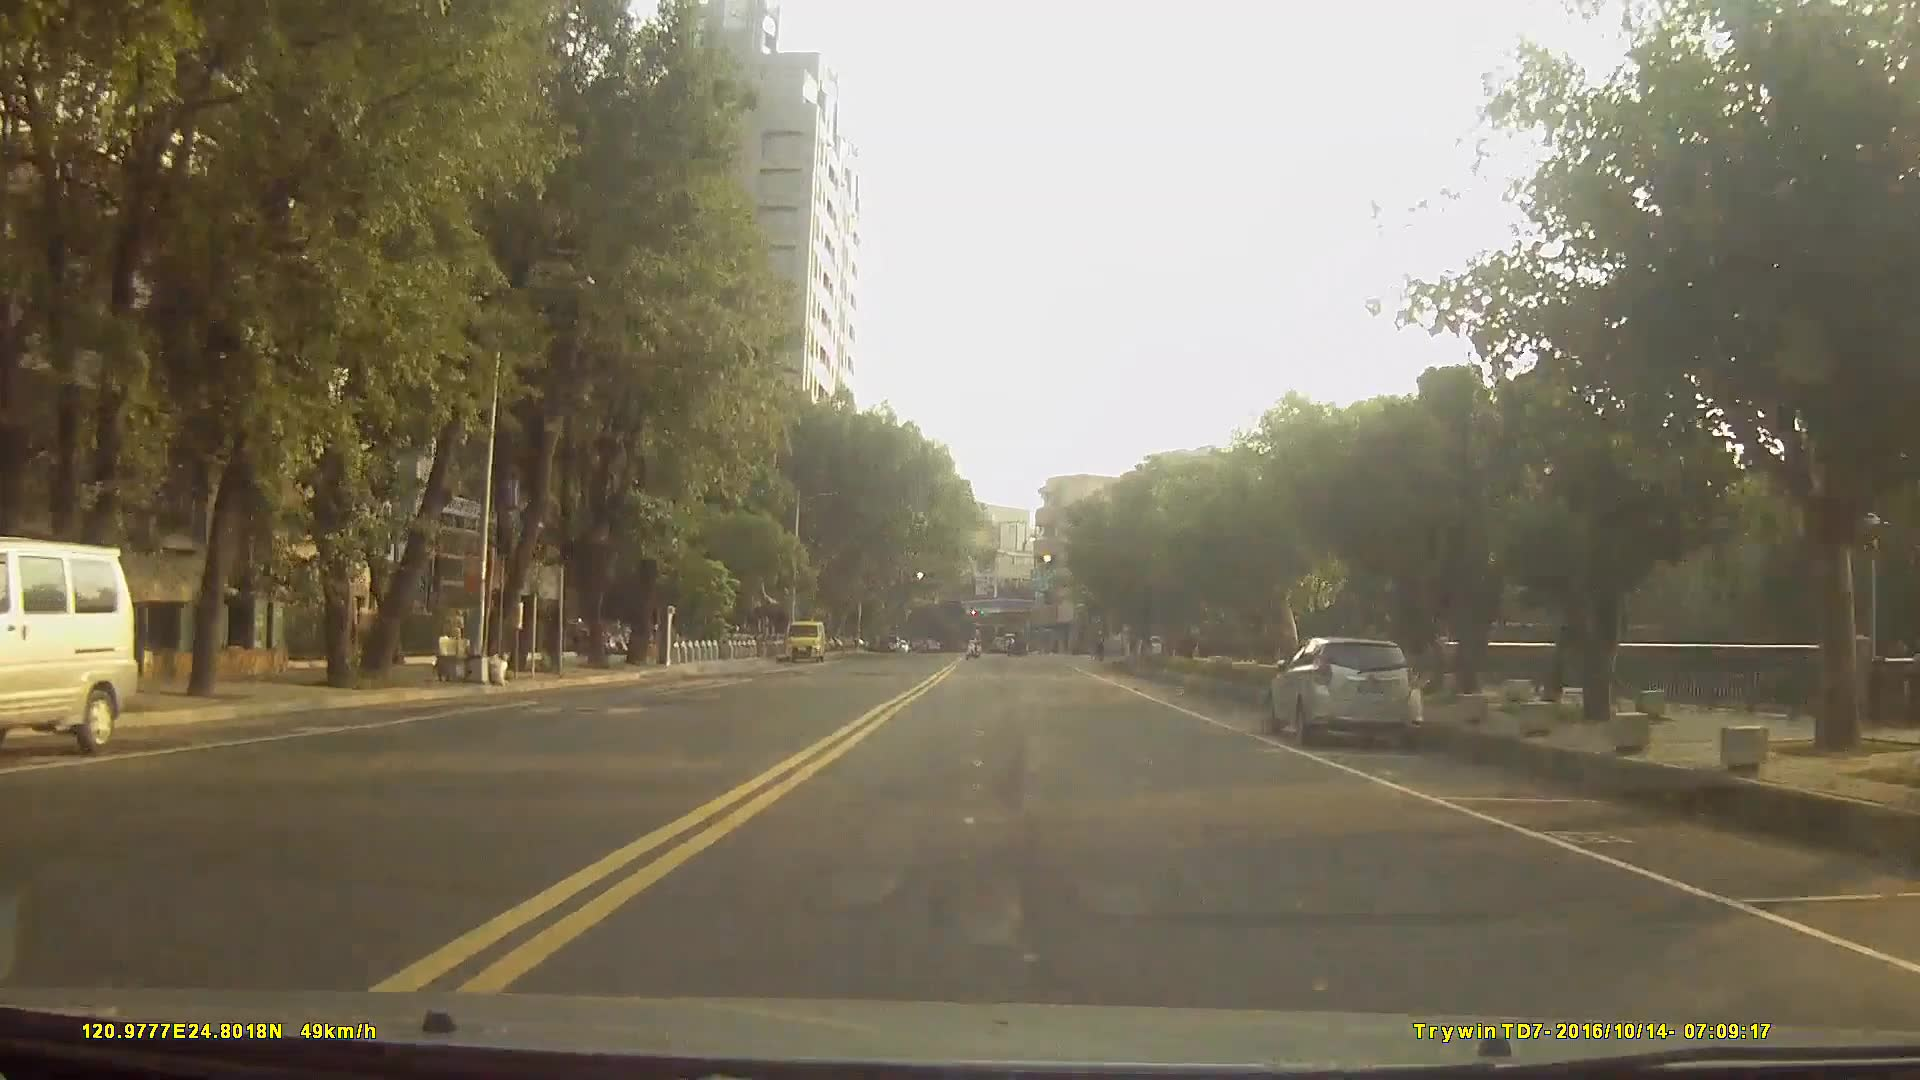vehicle: (0, 535, 141, 760), (1261, 636, 1425, 754), (1000, 633, 1027, 658)
